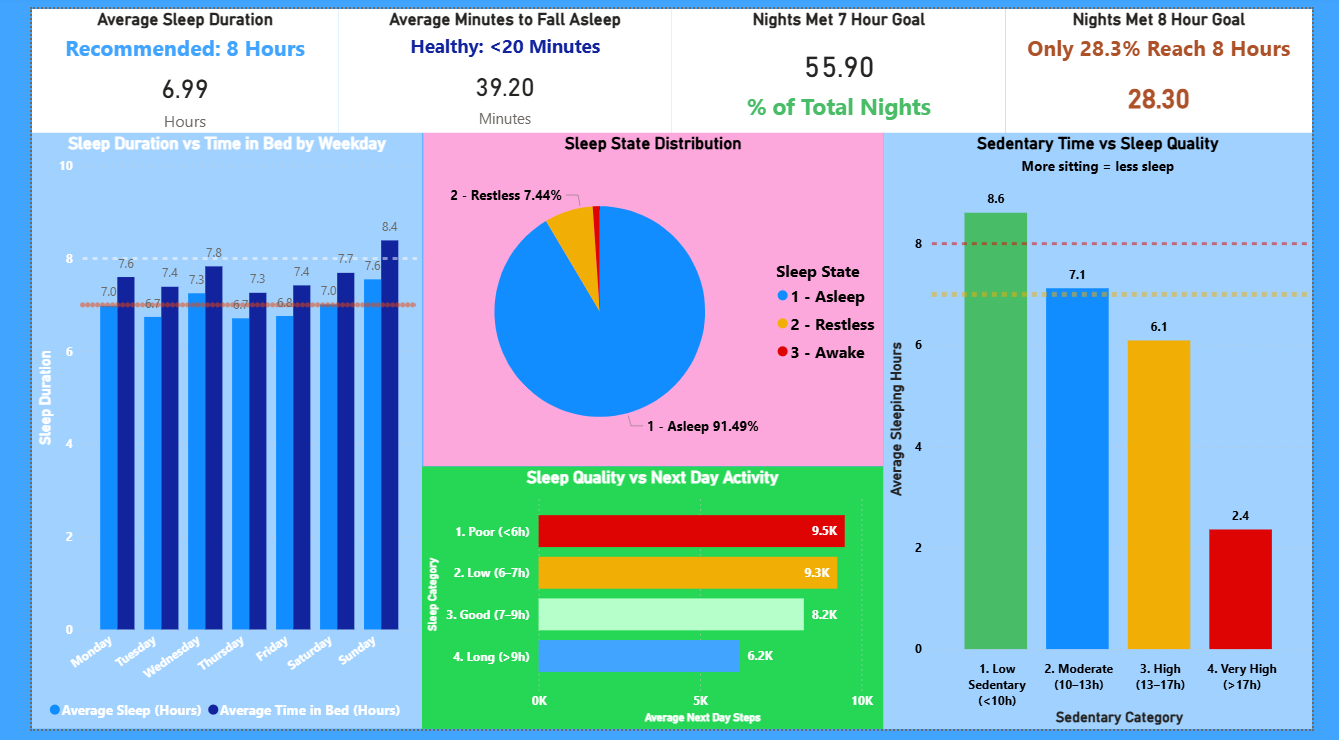

The dashboard page shown, as its layout file describes it:
{"tool":"powerbi","page":{"name":"Sleep Analysis","canvas":[1280,720],"ordinal":3},"visuals":[{"type":"card","title":"Average Sleep Duration","fields":{"Values":["Avg(sleep_summary.avg_sleep_hours)"]},"box":[0,0,306.2,123.8],"z":0},{"type":"card","title":"Average Minutes to Fall Asleep","fields":{"Values":["Sum(sleep_summary.avg_mins_to_fall_asleep)"]},"box":[306.2,0,333.8,123.8],"z":1000},{"type":"card","title":"Nights Met 7 Hour Goal","fields":{"Values":["Sum(sleep_summary.pct_met_7hr_goal)"]},"box":[640,0,333.8,123.8],"z":2000},{"type":"card","title":"Nights Met 8 Hour Goal","fields":{"Values":["Sum(sleep_summary.pct_met_8hr_goal)"]},"box":[973.8,0,306.2,123.8],"z":3000},{"type":"clusteredColumnChart","title":"Sleep Duration vs Time in Bed by Weekday","fields":{"Category":["sleep_by_day_of _week.DayOfWeek"],"Y":["Sum(sleep_by_day_of _week.avg_sleep_hours)","Sum(sleep_by_day_of _week.avg_time_in_bed_hours)"]},"box":[0,123.8,390,596.2],"z":4000},{"type":"pieChart","title":"Sleep State Distribution","fields":{"Category":["minute_sleep_state.sleep_state"],"Y":["Sum(minute_sleep_state.total_minutes)"]},"box":[391.2,123.8,460,333.8],"z":5000},{"type":"clusteredBarChart","title":"Sleep Quality vs Next Day Activity","fields":{"Category":["sleep_quality_vs_next_day_activity.sleep_category"],"Y":["Sum(sleep_quality_vs_next_day_activity.avg_next_day_steps)"]},"box":[390,457.5,461.2,262.5],"z":6000},{"type":"columnChart","title":"Sedentary Time vs Sleep Quality","fields":{"Category":["sedentary_time_vs_sleep_quality.sedentary_category"],"Y":["Sum(sedentary_time_vs_sleep_quality.avg_sleep_hours)"]},"box":[851.1,123.5,429.2,596.7],"z":7000}]}

Visuals, with their boxes in screenshot pixels (x1, y1, x2, y2), scaled from the page's 1280x720 canvas onto the 1339x740 screenshot:
"Average Sleep Duration" card: 0/0/320/127
"Average Minutes to Fall Asleep" card: 320/0/670/127
"Nights Met 7 Hour Goal" card: 670/0/1019/127
"Nights Met 8 Hour Goal" card: 1019/0/1338/127
"Sleep Duration vs Time in Bed by Weekday" clusteredColumnChart: 0/127/408/739
"Sleep State Distribution" pieChart: 409/127/890/470
"Sleep Quality vs Next Day Activity" clusteredBarChart: 408/470/890/739
"Sedentary Time vs Sleep Quality" columnChart: 890/127/1338/739
